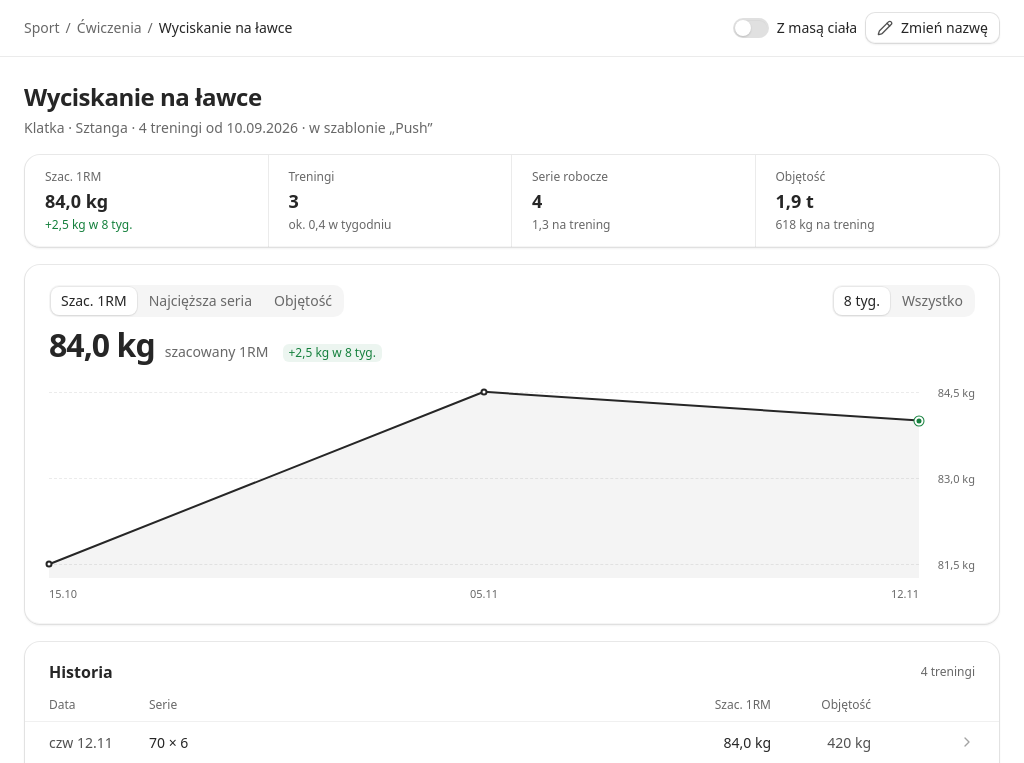
ExerciseDetail › „Zmień nazwę” zapisuje nową nazwę i odświeża stronę
This screenshot has width=1024, height=763.
Step 1. Click the button "Zmień nazwę" → click(933, 28), box [865,12,1000,44]
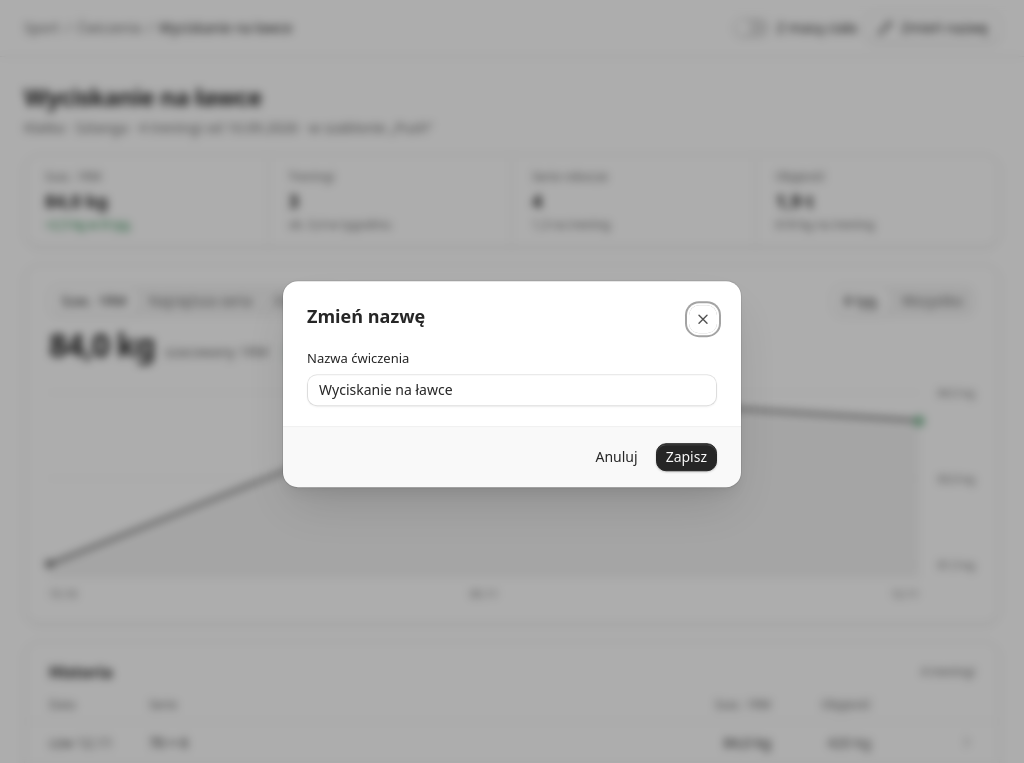
Expected: the field labelled "Nazwa ćwiczenia" holds "Wyciskanie na ławce"
Step 2. Replace the text in the field labelled "Nazwa ćwiczenia" with "Wyciskanie sztangi" → (512, 390), box [307,374,717,406]
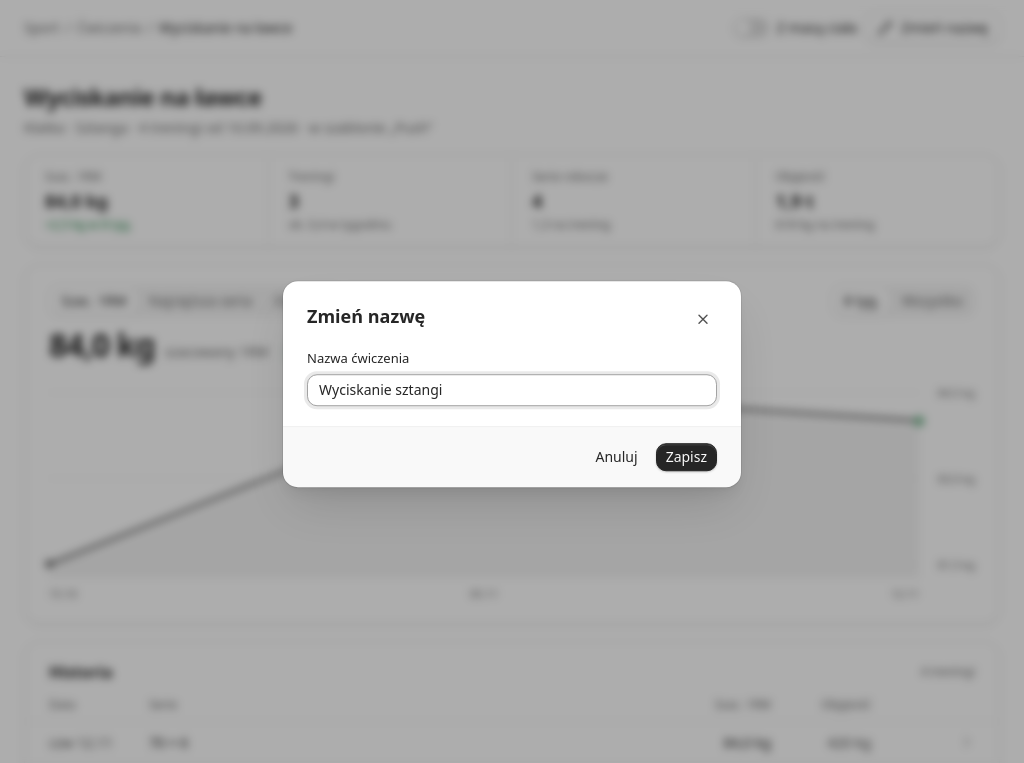
Step 3. Click the button "Zapisz" → click(686, 457), box [656,443,717,471]
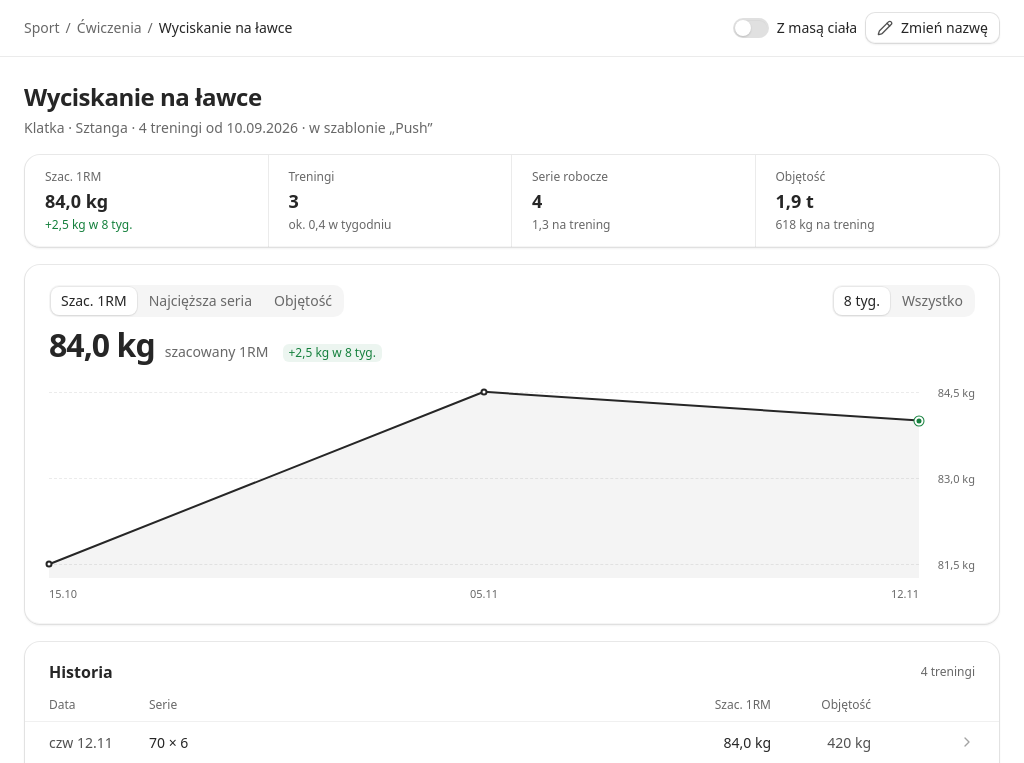
Expected: the dialog is gone
